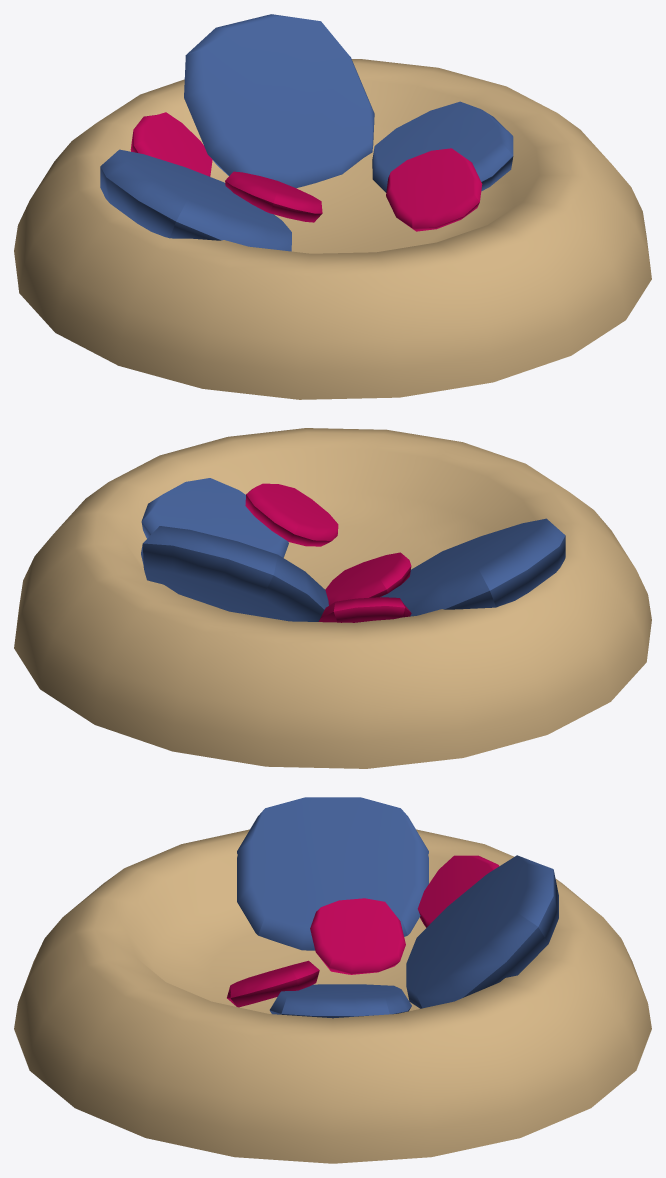
The model's file is SM_bed_and_pillows.fbx.
3 views of the same model, one above another, from view 1: azimuth 30°, elevation 25°; view 2: azimuth 150°, elevation 25°; view 3: azimuth 270°, elevation 25° (orthographic).
Parts seen in each view (by area): view 1: pCube16; view 2: pCube16; view 3: pCube16.
Boxes of the visible parts, x1,y1,x2,y2 form: pCube16: [14, 14, 651, 399]; pCube16: [14, 428, 651, 768]; pCube16: [14, 797, 651, 1163].
Bounding box in the file's own units: 11.43 × 3.24 × 11.43.
